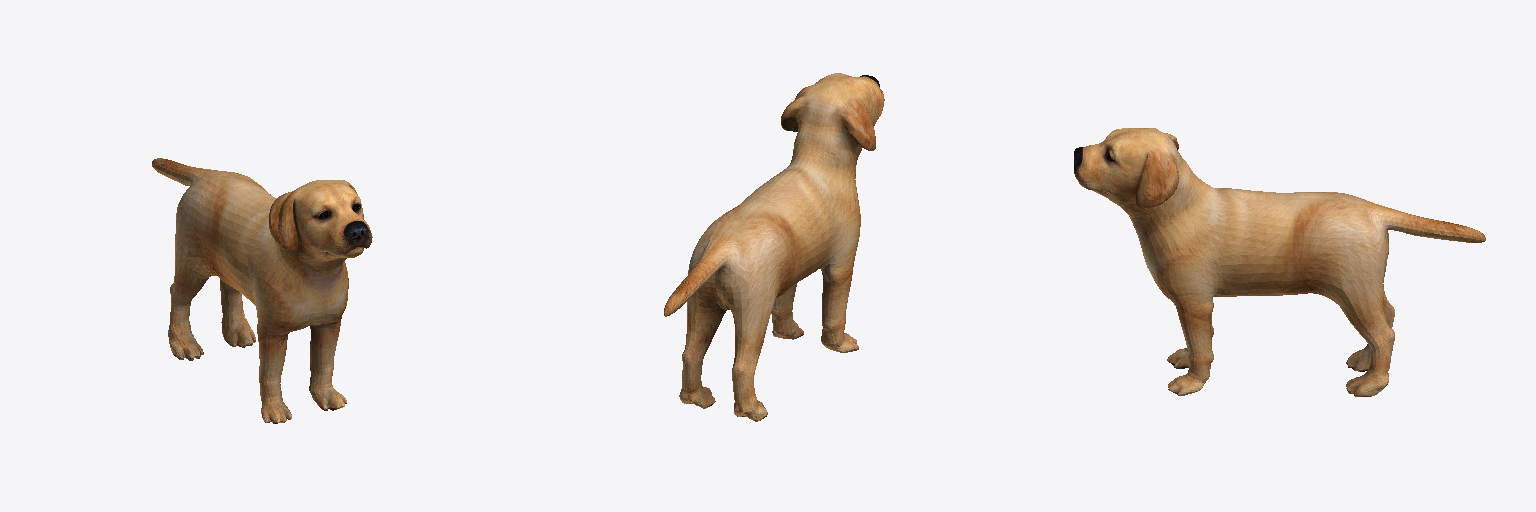
3 renders of one model, left to right at view 1: azimuth 30°, elevation 25°; view 2: azimuth 150°, elevation 25°; view 3: azimuth 270°, elevation 25°, orthographic.
Visible parts, largest first — view 1: dog1; view 2: dog1; view 3: dog1.
Part boxes in pixels (x1,y1,x2,y2): dog1: (152, 158, 372, 423); dog1: (664, 73, 884, 421); dog1: (1074, 128, 1485, 396).
Size of the model in its own units: 0.6669 by 1.77 by 2.68.
1 materials, 1 textured.